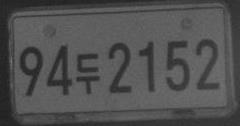1: (137, 41, 162, 92)
2: (195, 37, 221, 90), (107, 41, 131, 93)
4: (46, 44, 73, 95)
5: (164, 40, 190, 91)
9: (18, 45, 44, 96)
두: (76, 52, 100, 95)
